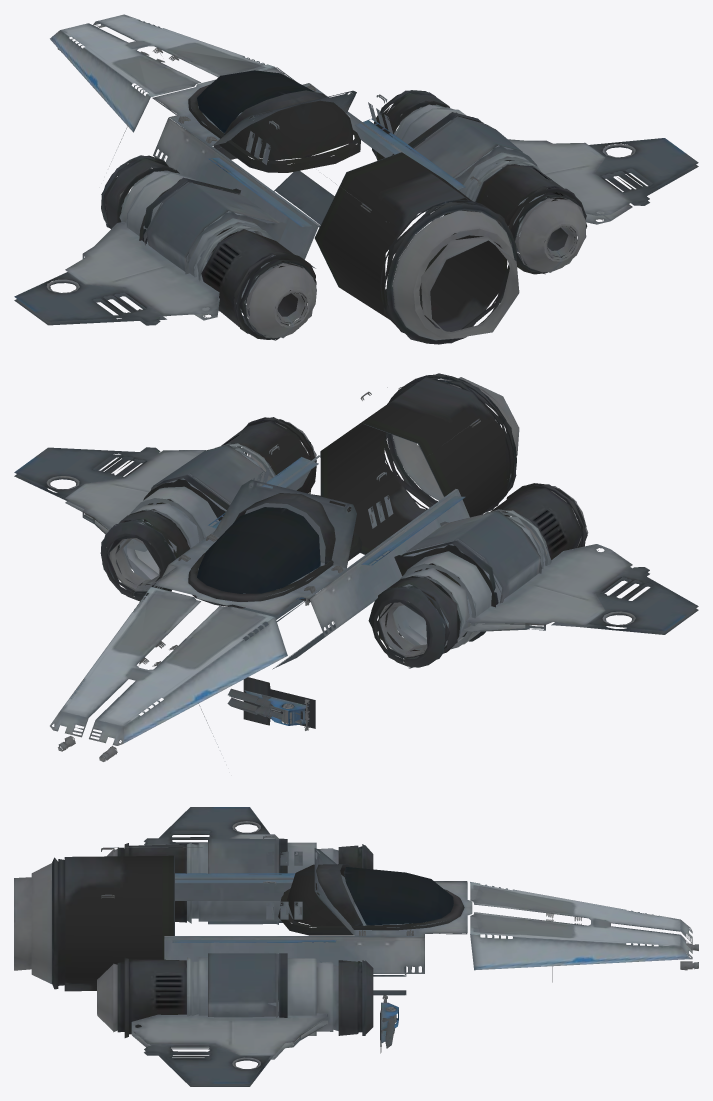
3 renders of one model, top to bottom at view 1: azimuth 30°, elevation 25°; view 2: azimuth 150°, elevation 25°; view 3: azimuth 270°, elevation 25°, orthographic. The views are drawn at different scales.
Visible parts, largest first — view 1: cb1.183; view 2: cb1.183; view 3: cb1.183.
Part boxes in pixels (x1,y1,x2,y2): cb1.183: (14,14,698,344); cb1.183: (14,373,698,761); cb1.183: (14,807,698,1086).
Bounding box in the file's own units: 1.15 × 0.3657 × 1.2.
Materials: 1 (1 with a texture image).
